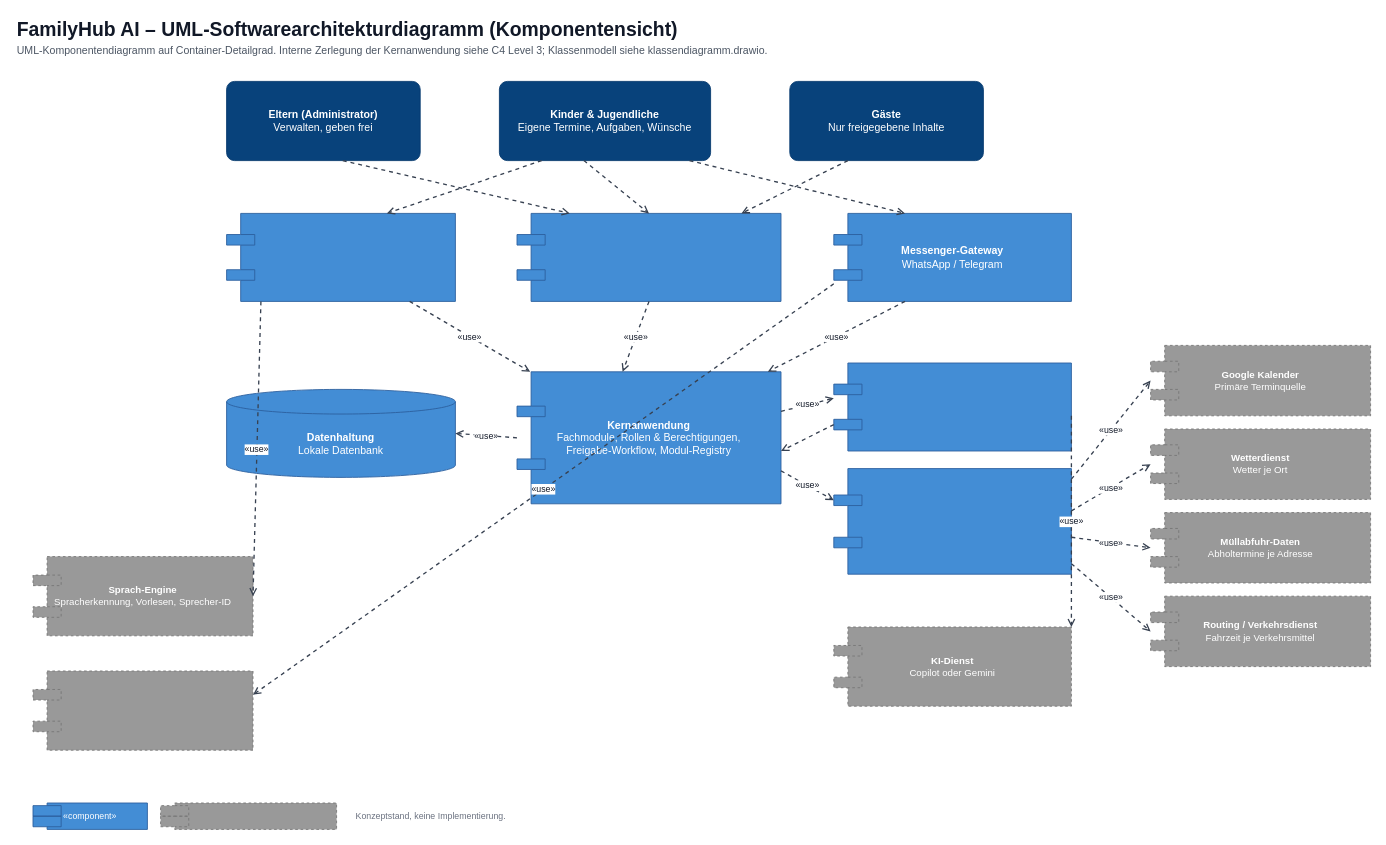
Some shapes in this 1386 by 845 pixel diagram are drawn without their labels. Each missing label, with the centre of its shape:
"Externe Komponente (optional)" belongs at pixel 248 815.
"Integrations-Adapter Synchronisiert Kalender, Wetter, Müll, Fahrzeit" belongs at pixel 952 521.
"KI-Agent-Dienst Erzeugt Vorschläge, entscheidet nie" belongs at pixel 952 406.
"Sprachdienst Nur Tablet" belongs at pixel 340 257.
"Web-Oberfläche Desktop, Tablet, Smartphone" belongs at pixel 648 257.
"WhatsApp / Telegram Bot-Schnittstelle" belongs at pixel 142 710.
